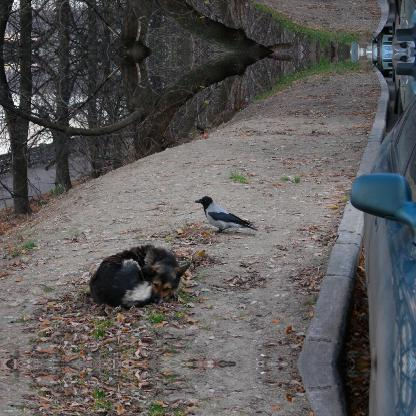Bird: (188, 193, 256, 238)
